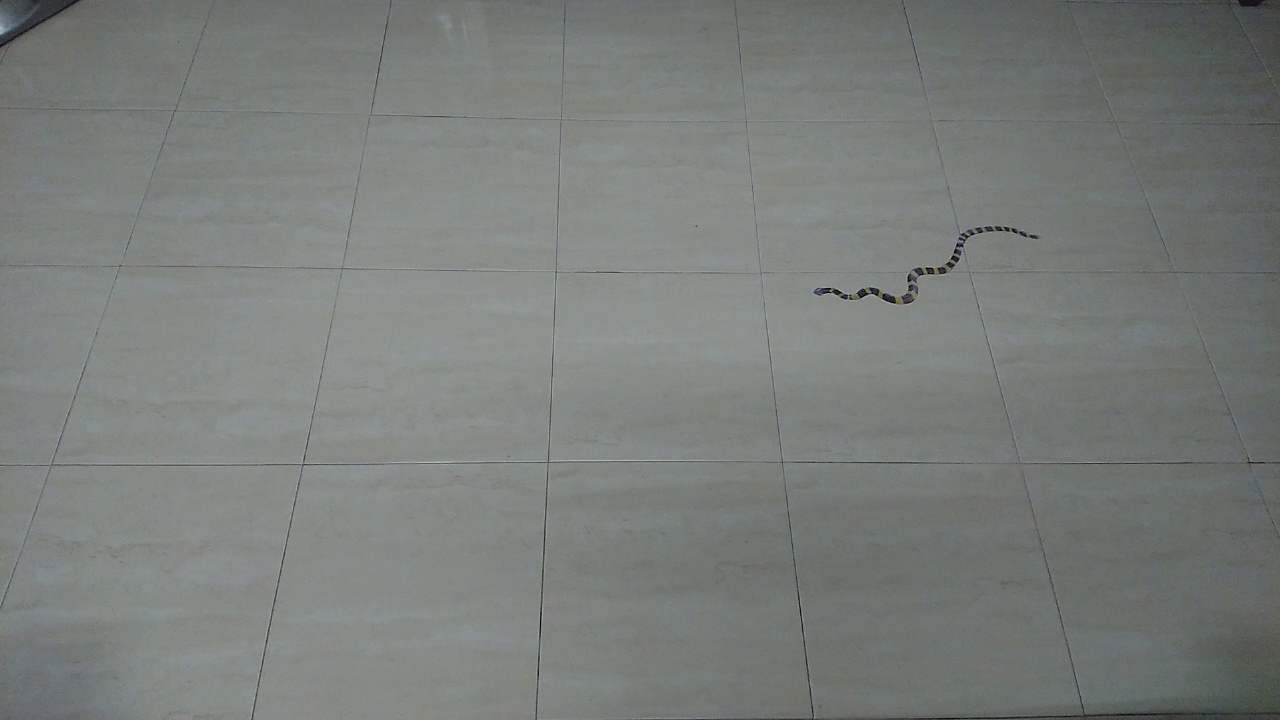snake: (795, 213, 1056, 323)
